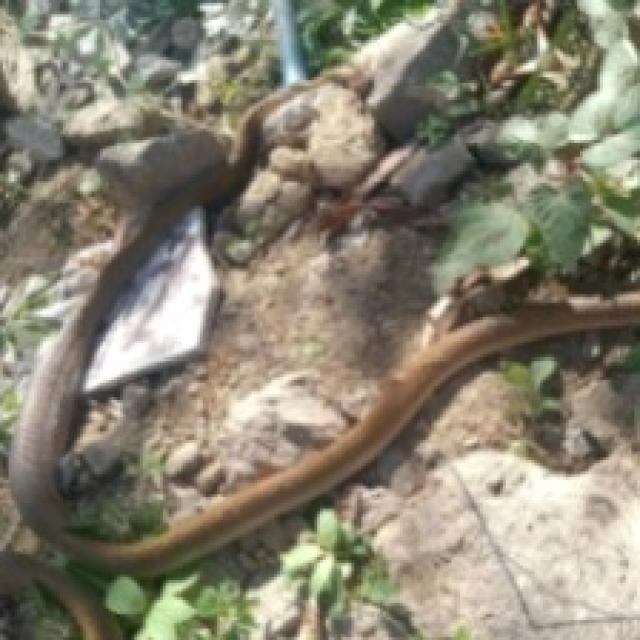philippine cobra: (12, 89, 640, 574)
